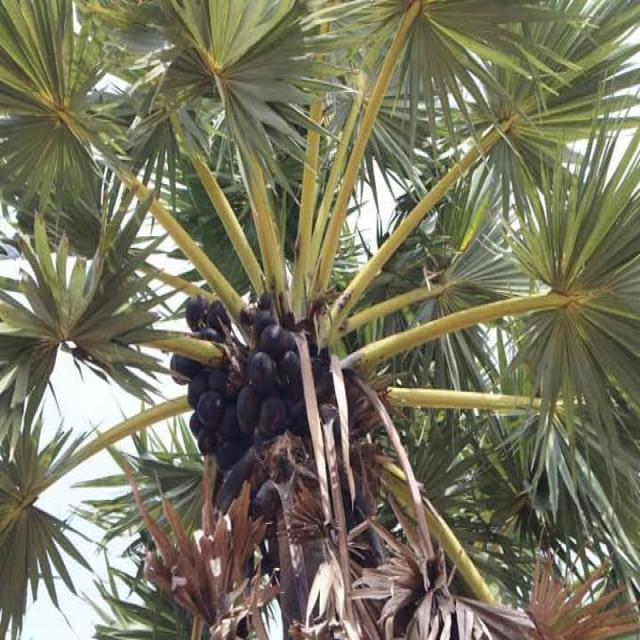Plam-Tree: (66, 99, 518, 623), (185, 266, 422, 516)
